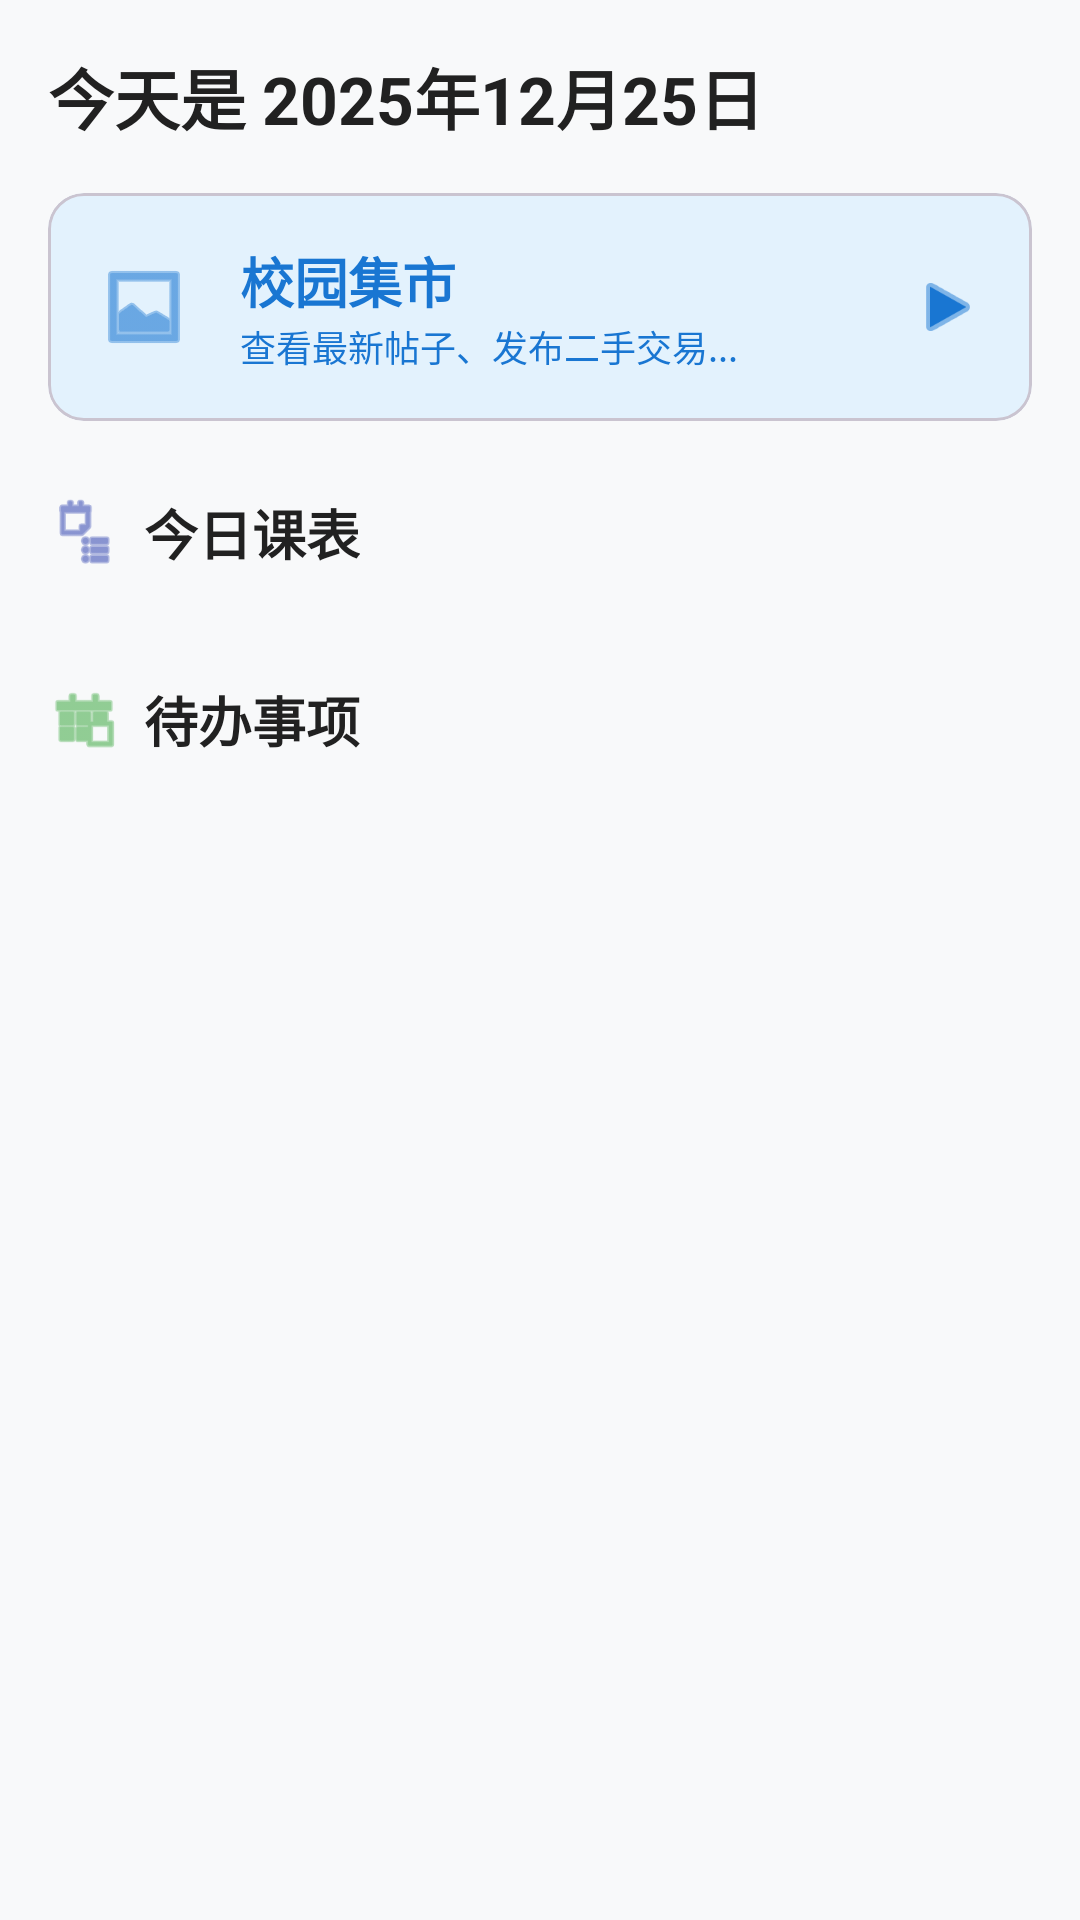

Screen size 1080*1920. Icon name, then its center in pixels as (x,y):
agenda: (84,532)
gallery: (144,307)
play: (948,307)
today: (84,720)
